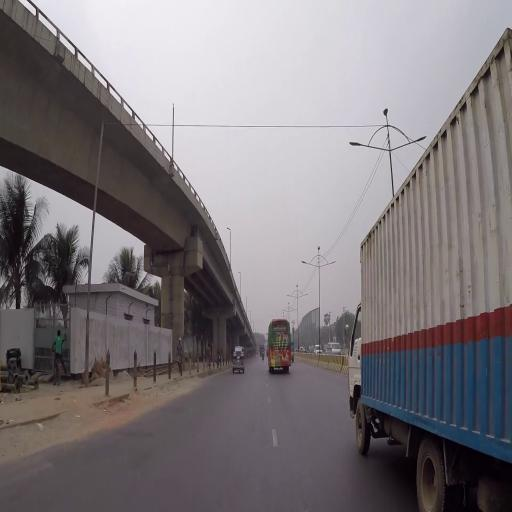bus: (268, 317, 293, 373), (260, 344, 266, 356)
motorbike: (262, 350, 265, 362)
three wheelers (CNG): (233, 346, 246, 374)
truck: (349, 28, 512, 510)
van: (327, 342, 343, 355)
